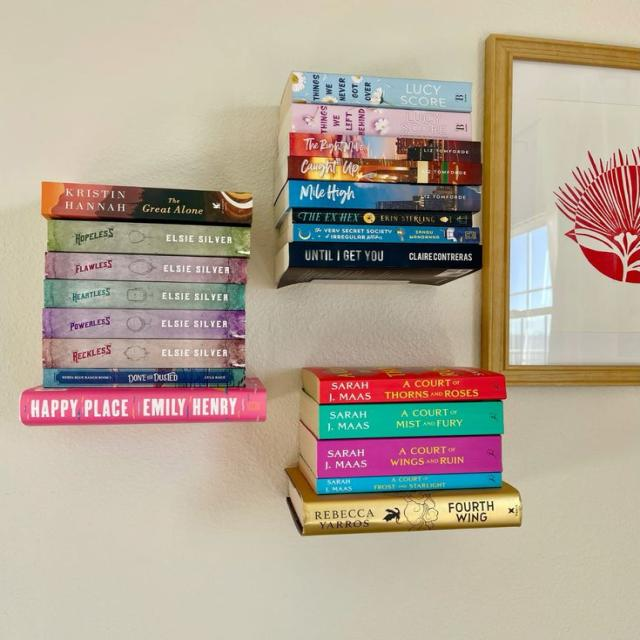book: (19, 378, 266, 426), (304, 493, 522, 535), (41, 184, 253, 226), (292, 71, 471, 112), (47, 220, 250, 256), (289, 103, 470, 140), (42, 336, 245, 368), (290, 179, 481, 212), (43, 309, 244, 339), (46, 253, 246, 283), (44, 280, 244, 309), (318, 442, 501, 472), (290, 157, 482, 185), (319, 404, 503, 433), (290, 133, 480, 161), (319, 375, 505, 403), (288, 244, 483, 266), (315, 474, 502, 494), (43, 368, 245, 386), (293, 225, 479, 242), (292, 211, 473, 226)
